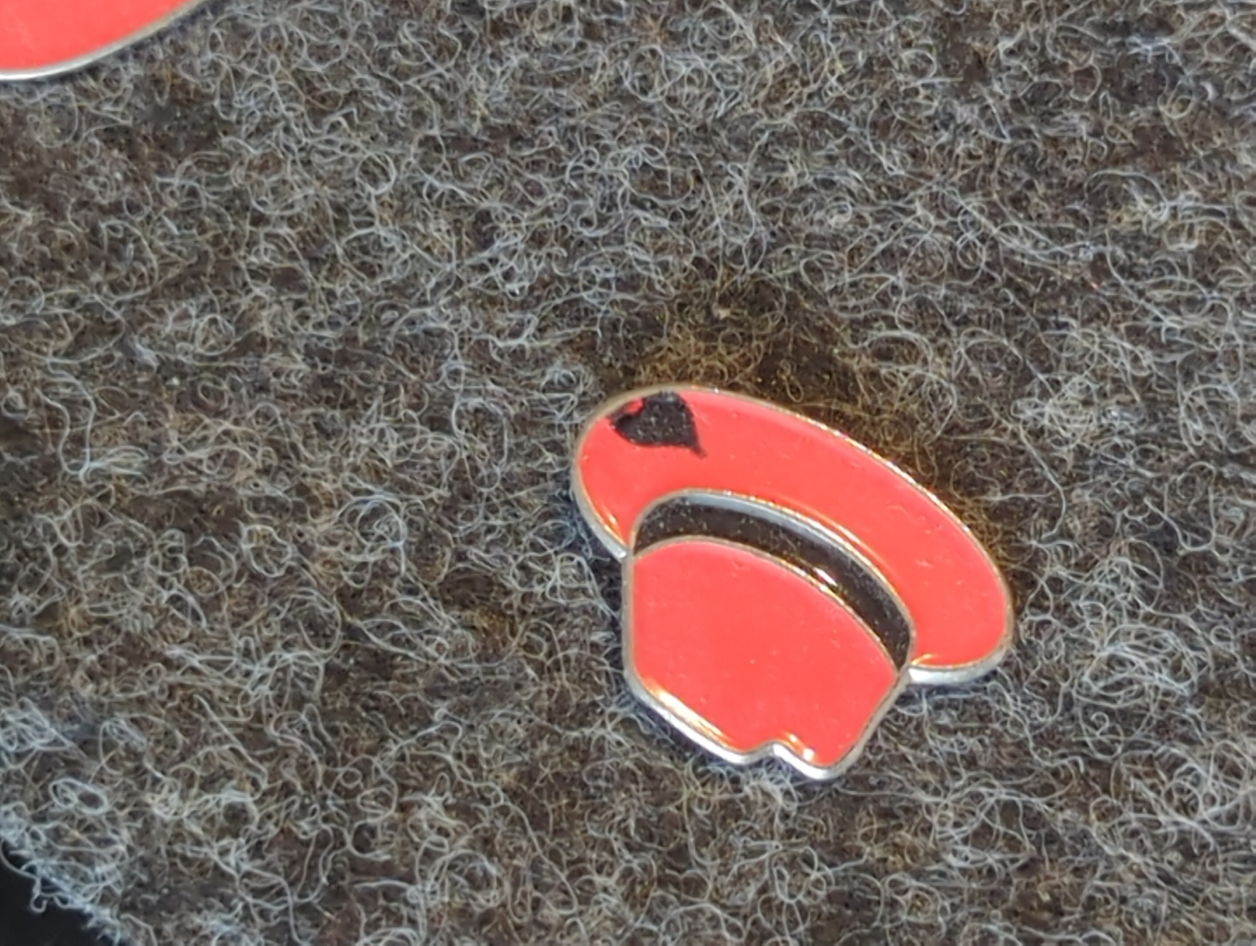Red-Hat: (437, 259, 1183, 840)
Scratch: (549, 354, 742, 469)
